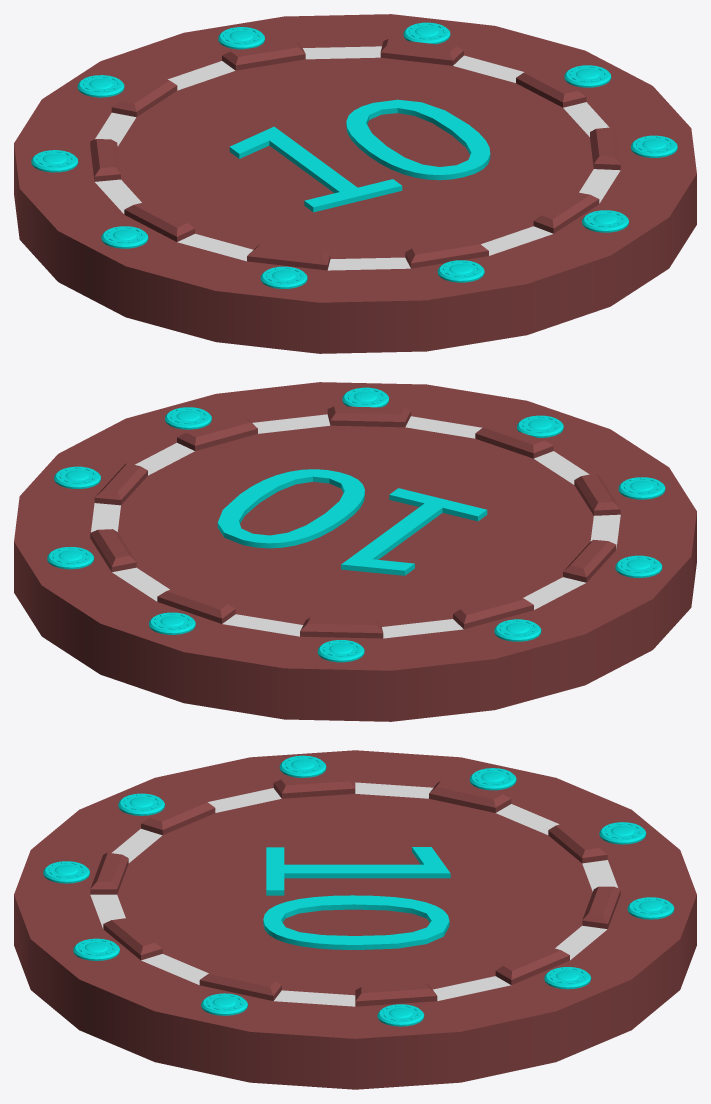
Rendered from poker10.fbx.
3 views of the same model, one above another, from view 1: azimuth 30°, elevation 25°; view 2: azimuth 150°, elevation 25°; view 3: azimuth 270°, elevation 25° (orthographic).
Parts seen in each view (by area): view 1: pCylinder1, pCylinder12, polySurface2, polySurface1; view 2: pCylinder1, pCylinder12, polySurface2, polySurface1; view 3: pCylinder1, pCylinder12, polySurface2, polySurface1.
Part boxes in pixels (box(x1,y1,x2,y2)): pCylinder1: box(14, 14, 696, 353); pCylinder12: box(31, 22, 677, 288); polySurface2: box(346, 99, 490, 180); polySurface1: box(229, 126, 402, 212); pCylinder1: box(14, 382, 696, 721); pCylinder12: box(47, 387, 665, 662); polySurface2: box(217, 469, 364, 548); polySurface1: box(341, 488, 487, 575); pCylinder1: box(14, 750, 696, 1089); pCylinder12: box(43, 755, 674, 1026); polySurface2: box(263, 895, 449, 949); polySurface1: box(266, 847, 450, 895).
Bounding box in the file's own units: 2.1 × 0.2076 × 2.1.
